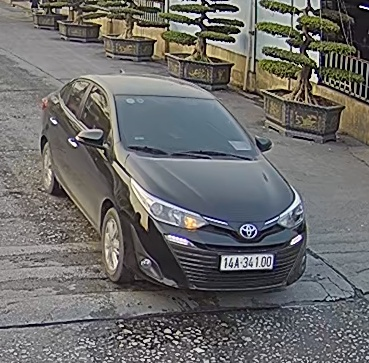vehicle plate: (217, 251, 278, 272)
